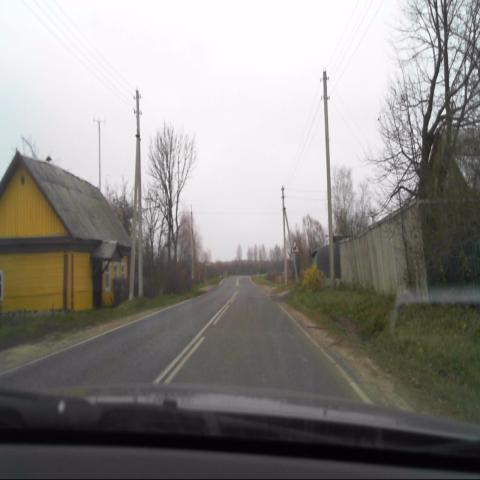1_12: (290, 239, 300, 252)
